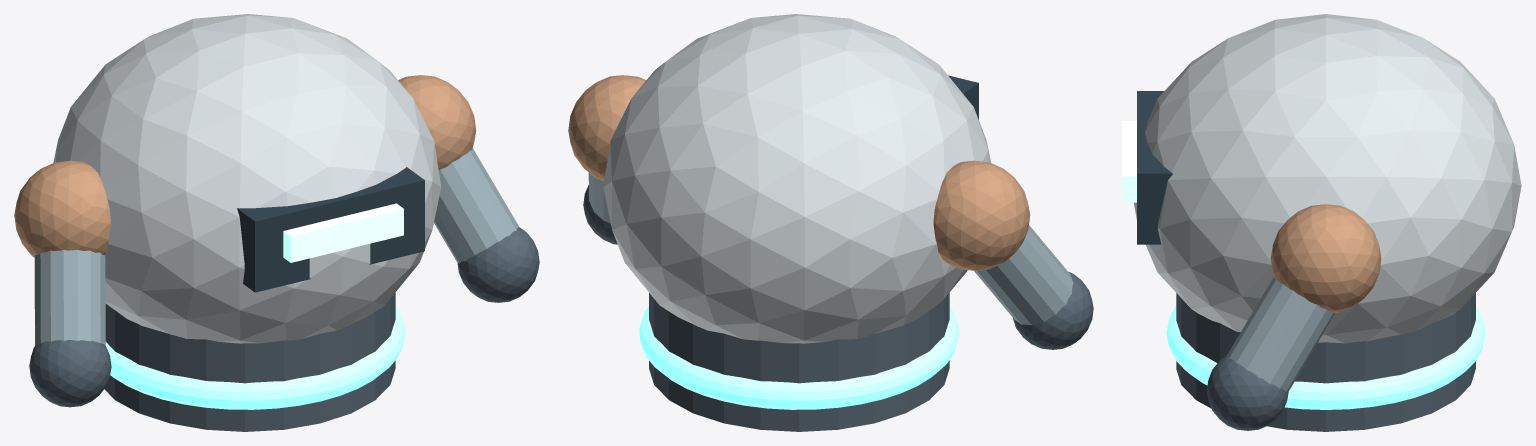
The model's file is med_droid.glb.
The picture shows the model from 3 angles, left to right: view 1: azimuth 30°, elevation 25°; view 2: azimuth 150°, elevation 25°; view 3: azimuth 270°, elevation 25°; orthographic projection.
Visible parts, largest first — view 1: ivory_2, dark_0, black_3, blue_1, copper_5, steel_6, steel_9, dark_7, green_4, dark_10, copper_8; view 2: ivory_2, dark_0, blue_1, copper_5, steel_6, copper_8, dark_7, dark_10, steel_9, black_3; view 3: ivory_2, dark_0, copper_8, blue_1, steel_9, dark_10, black_3, green_4.
Boxes of the visible parts, x1=… form: ivory_2: x1=53, y1=14, x2=441, y2=343; dark_0: x1=104, y1=292, x2=395, y2=431; black_3: x1=237, y1=167, x2=424, y2=292; blue_1: x1=105, y1=306, x2=404, y2=409; copper_5: x1=14, y1=160, x2=110, y2=257; steel_6: x1=34, y1=249, x2=105, y2=345; steel_9: x1=434, y1=148, x2=519, y2=263; dark_7: x1=29, y1=340, x2=111, y2=407; green_4: x1=283, y1=203, x2=403, y2=262; dark_10: x1=457, y1=227, x2=539, y2=302; copper_8: x1=398, y1=75, x2=476, y2=170; ivory_2: x1=603, y1=14, x2=990, y2=343; dark_0: x1=649, y1=293, x2=949, y2=431; blue_1: x1=639, y1=306, x2=958, y2=409; copper_5: x1=933, y1=160, x2=1030, y2=270; steel_6: x1=974, y1=225, x2=1073, y2=325; copper_8: x1=568, y1=75, x2=646, y2=181; dark_7: x1=1013, y1=272, x2=1093, y2=349; dark_10: x1=583, y1=185, x2=617, y2=244; steel_9: x1=588, y1=172, x2=610, y2=222; black_3: x1=948, y1=75, x2=978, y2=119; ivory_2: x1=1133, y1=14, x2=1521, y2=343; dark_0: x1=1176, y1=293, x2=1475, y2=431; copper_8: x1=1270, y1=204, x2=1381, y2=313; blue_1: x1=1166, y1=305, x2=1485, y2=409; steel_9: x1=1227, y1=276, x2=1335, y2=391; dark_10: x1=1207, y1=355, x2=1288, y2=430; black_3: x1=1137, y1=91, x2=1172, y2=244; green_4: x1=1122, y1=121, x2=1136, y2=202.
Size of the model in its own units: 0.8824 by 0.565 by 0.6125.
